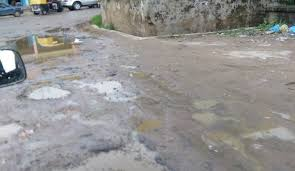pothole: (24, 30, 80, 72), (91, 134, 162, 167), (87, 75, 133, 109), (26, 82, 74, 100)
